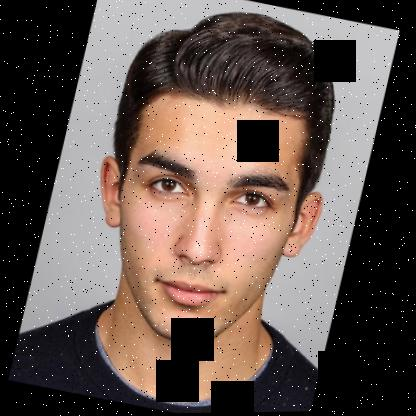Male: (65, 77, 343, 365)
